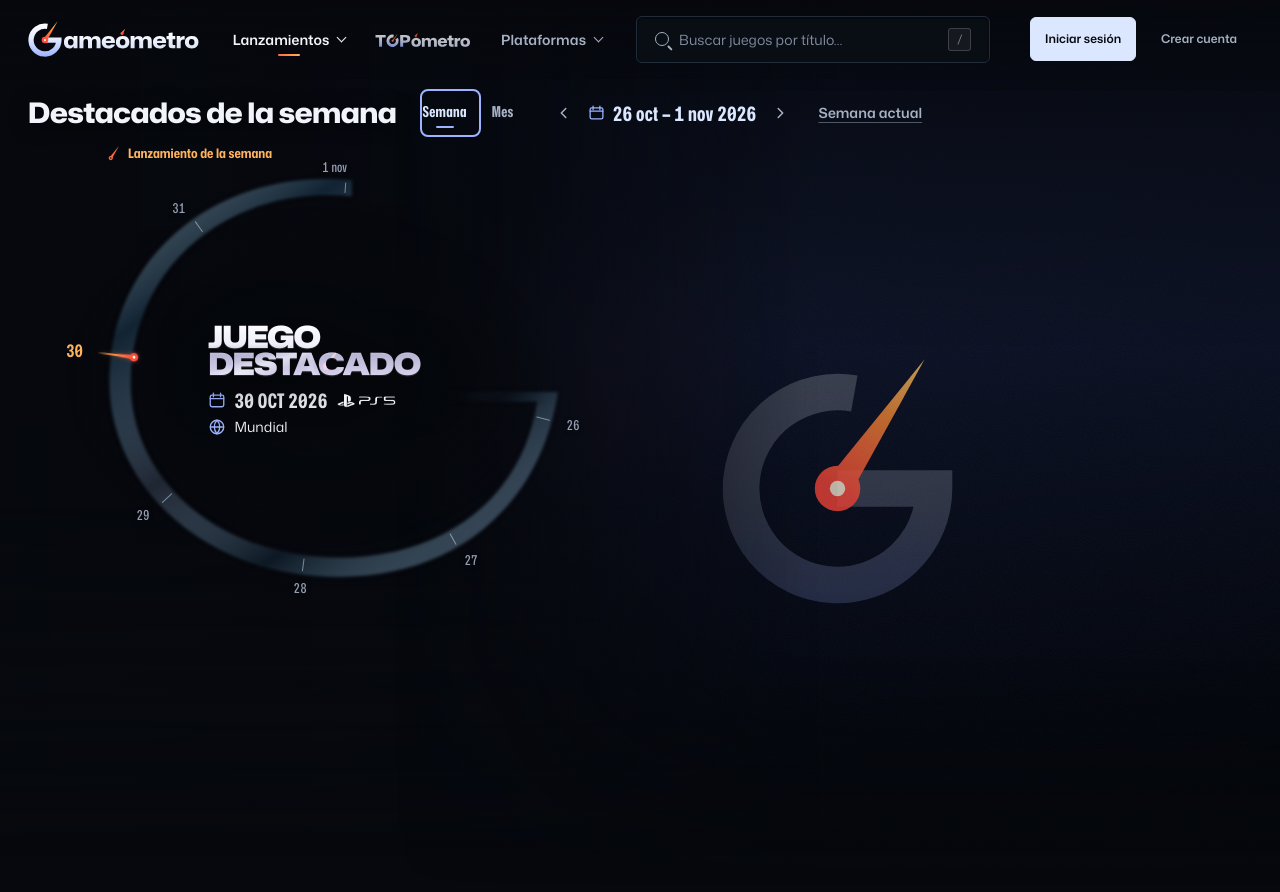
Scenario: featured releases page › switches granularity to the current period of the other one
Expected: the element "Juego destacado" is shown, [28,140,1252,616]
Press Tab
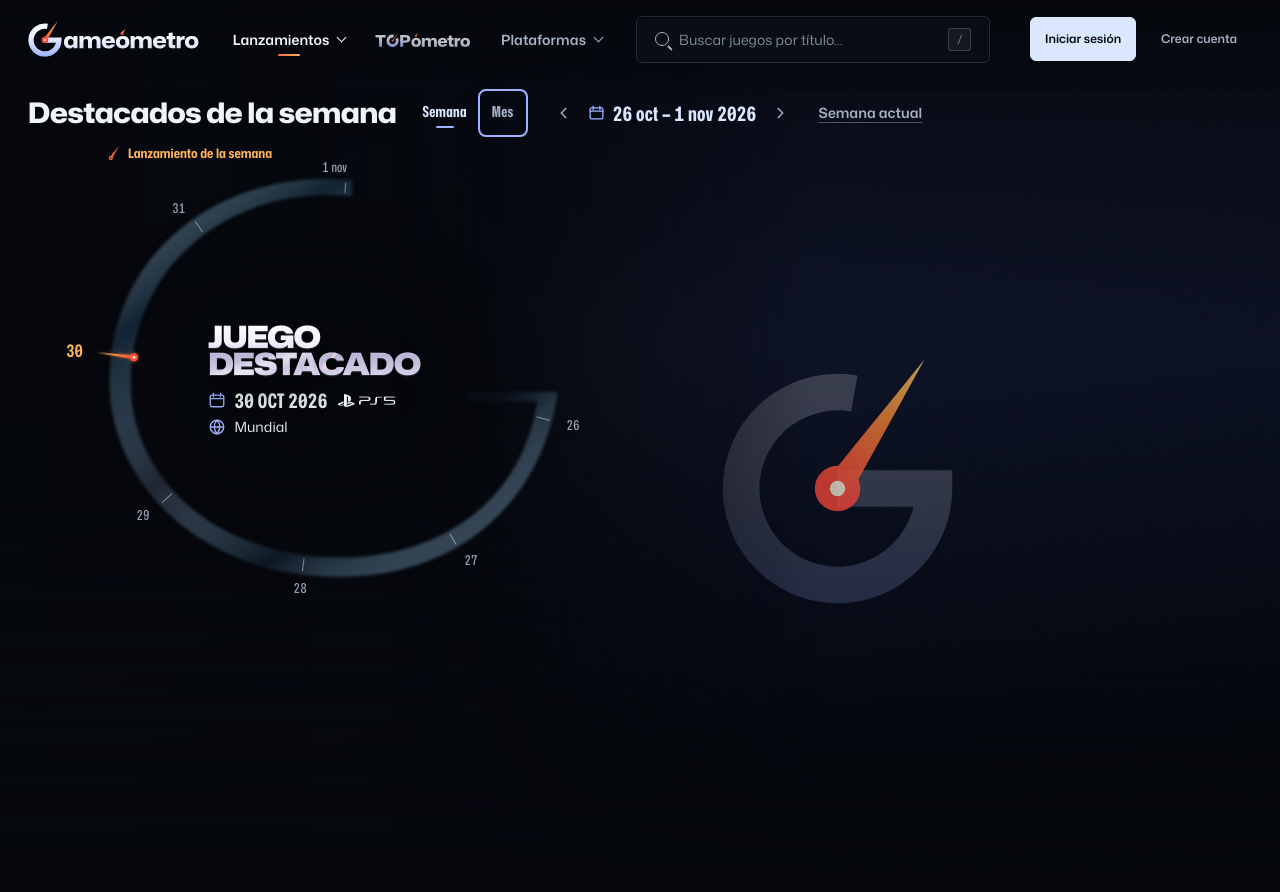
Press Enter
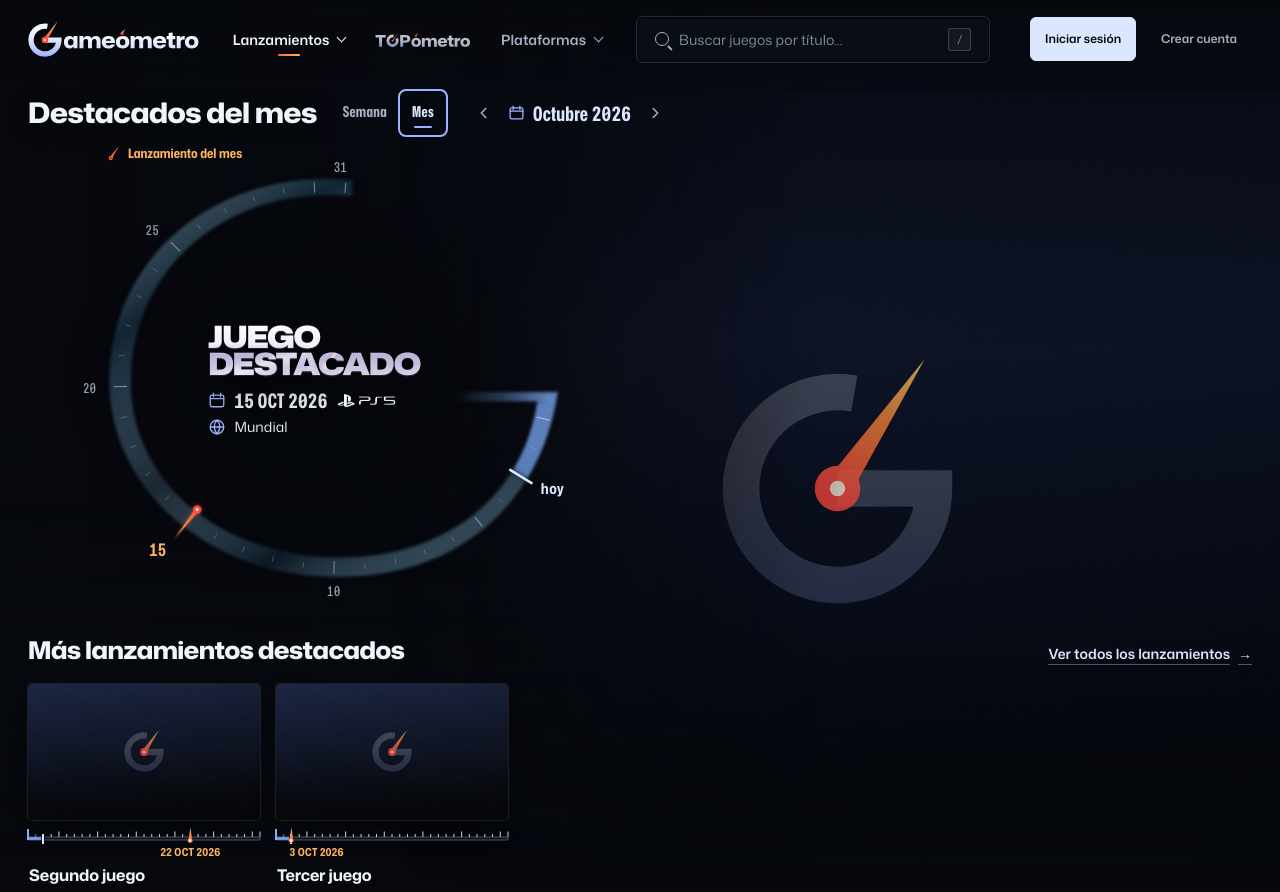
Result: the heading "Destacados del mes" is shown at [28,97,317,128]
Result: the text "Octubre 2026" is shown at [533,98,631,128]
Click the link "Semana". click: [365, 112]
box: [343,101,387,122]
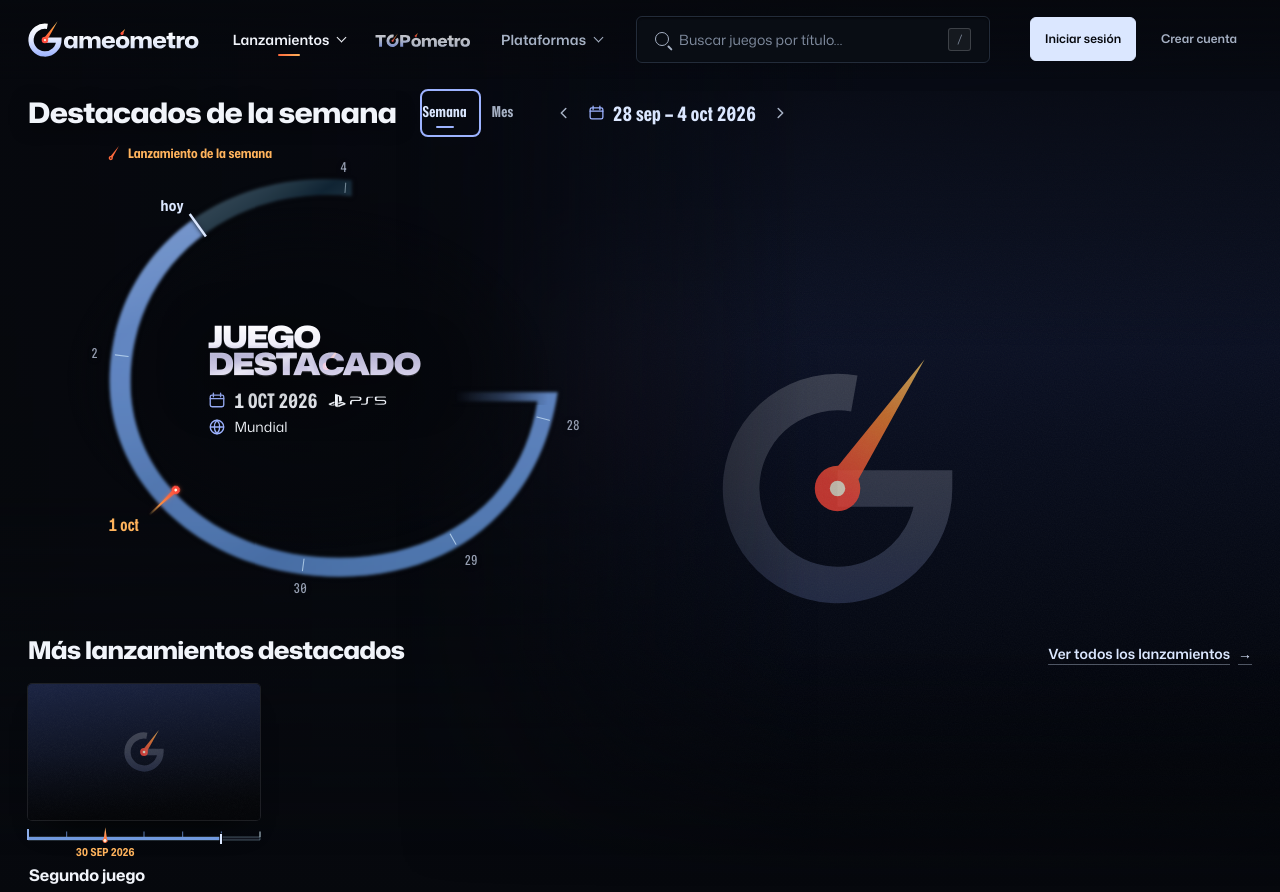
Result: the heading "Destacados de la semana" is shown at [28,97,396,128]
